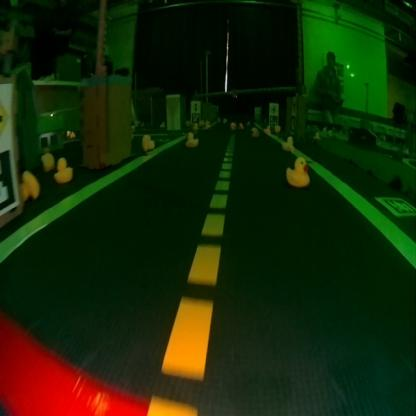Duckie: (286, 156, 309, 186), (19, 169, 39, 199), (53, 157, 69, 183), (40, 148, 54, 169), (141, 133, 153, 150), (282, 136, 295, 149), (186, 132, 196, 146), (250, 126, 259, 137), (237, 122, 243, 129), (230, 121, 235, 129)
QR code: (377, 194, 415, 217), (269, 114, 278, 126), (190, 112, 199, 121)
